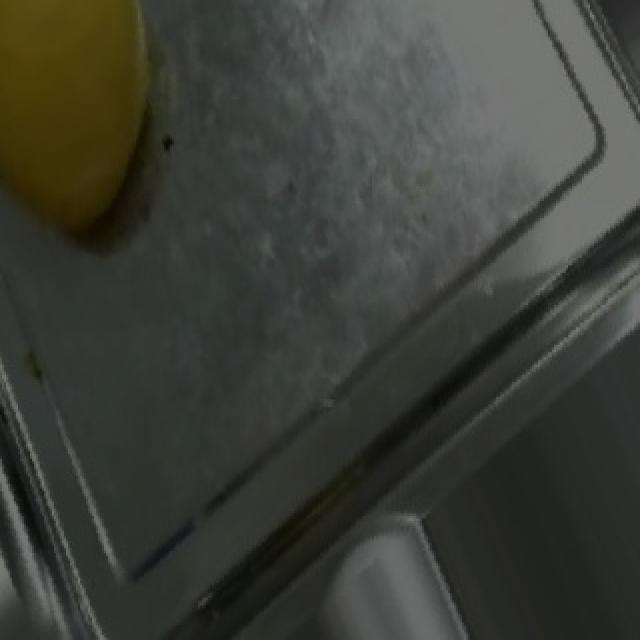fruit: (0, 0, 202, 265)
